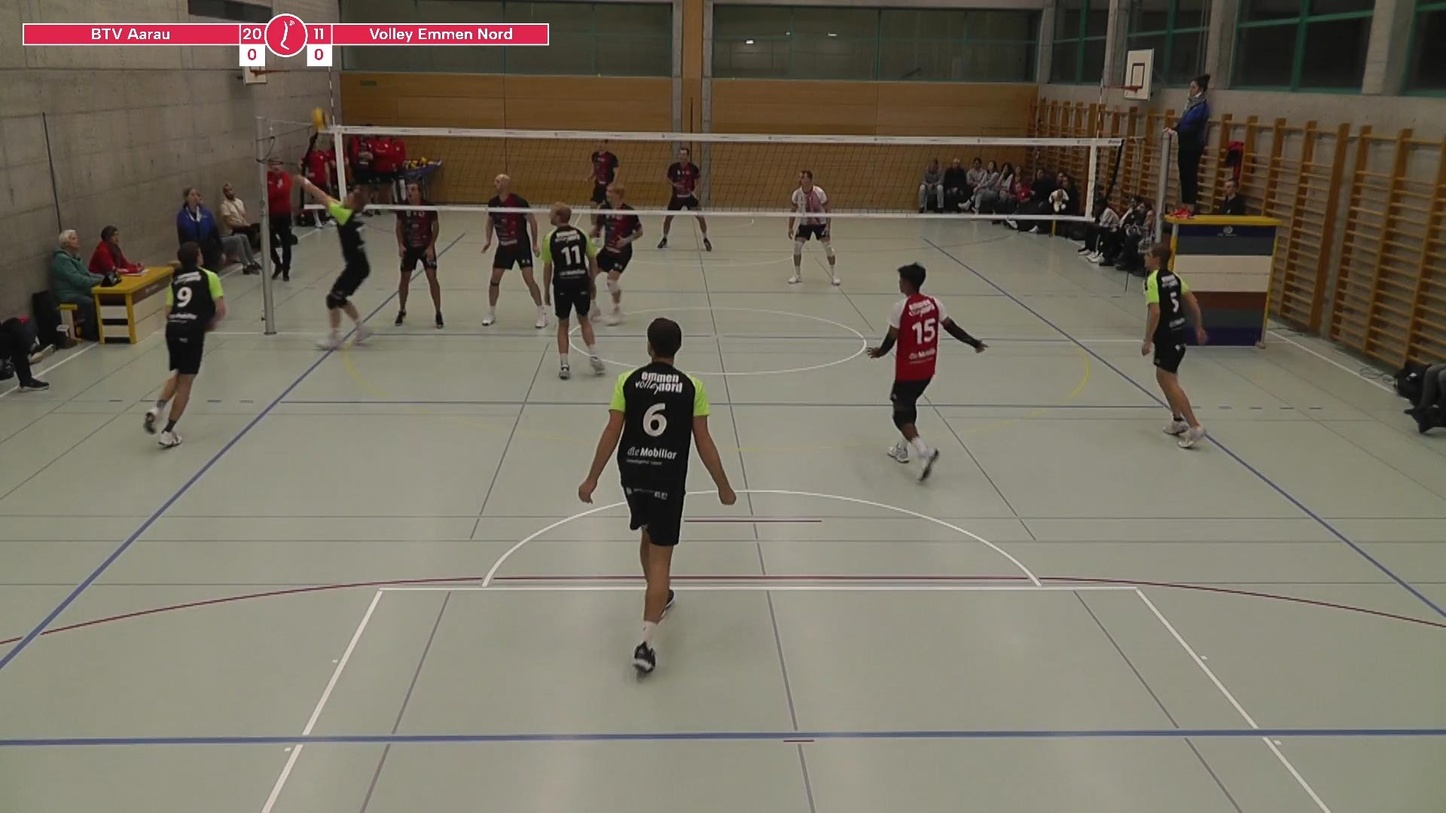Player: (578, 318, 735, 673), (868, 263, 987, 480), (144, 243, 225, 447), (1142, 244, 1207, 448), (540, 202, 604, 379), (482, 212, 547, 328), (593, 183, 642, 325), (788, 170, 840, 285), (395, 209, 444, 329), (667, 148, 712, 251), (589, 140, 619, 206)
Set: (295, 171, 378, 363)
ball: (309, 103, 331, 132)
